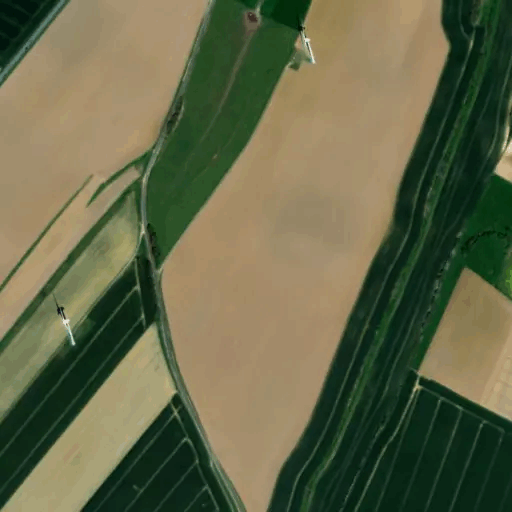wt: (44, 287, 96, 364), (287, 16, 332, 85)
